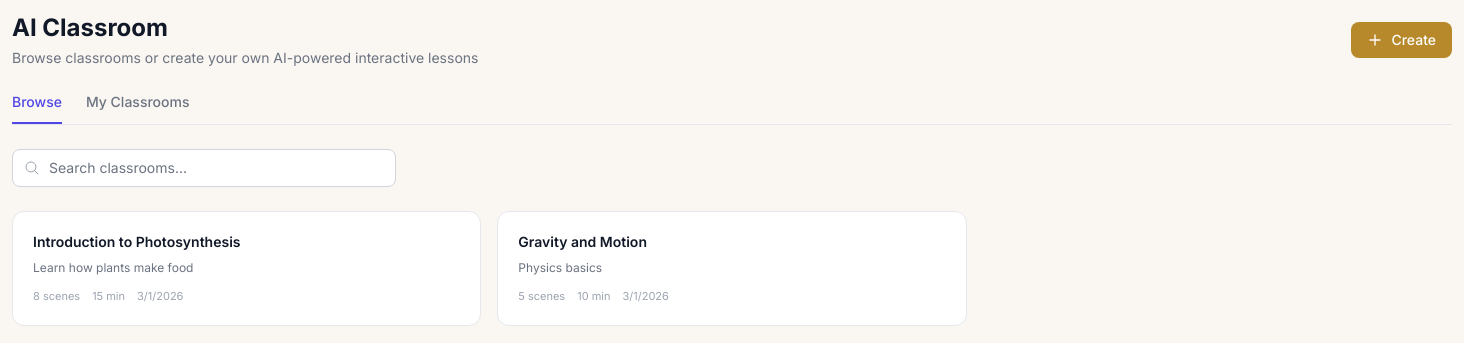
it: MAICBrowsePage › switches to My Classrooms tab and shows student classrooms
The image size is (1464, 343).
Click the button "My Classrooms" at (138, 108), box [86, 92, 189, 124]
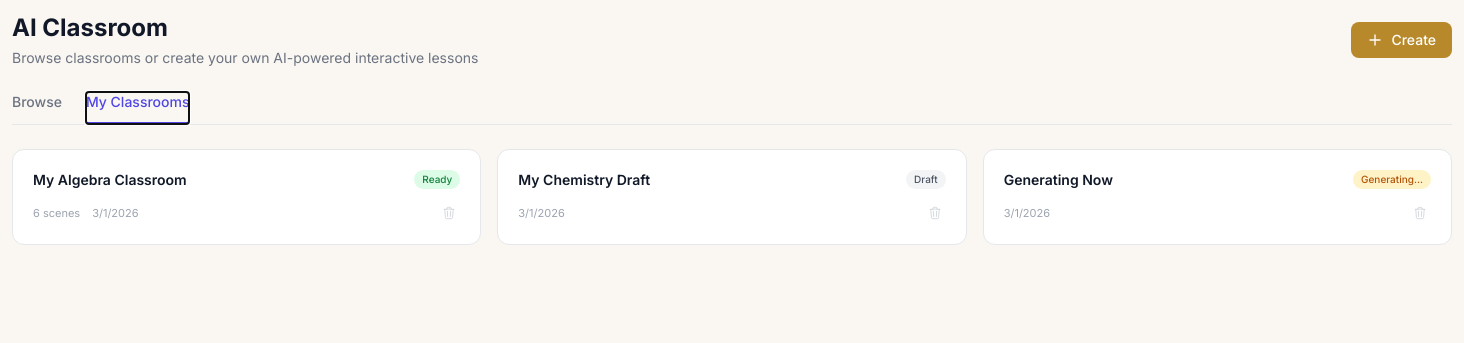
Result: the heading "My Algebra Classroom" is shown at [33, 171, 187, 188]
Result: the heading "My Chemistry Draft" is shown at [518, 171, 650, 188]
Result: the heading "Generating Now" is shown at [1004, 171, 1113, 188]
